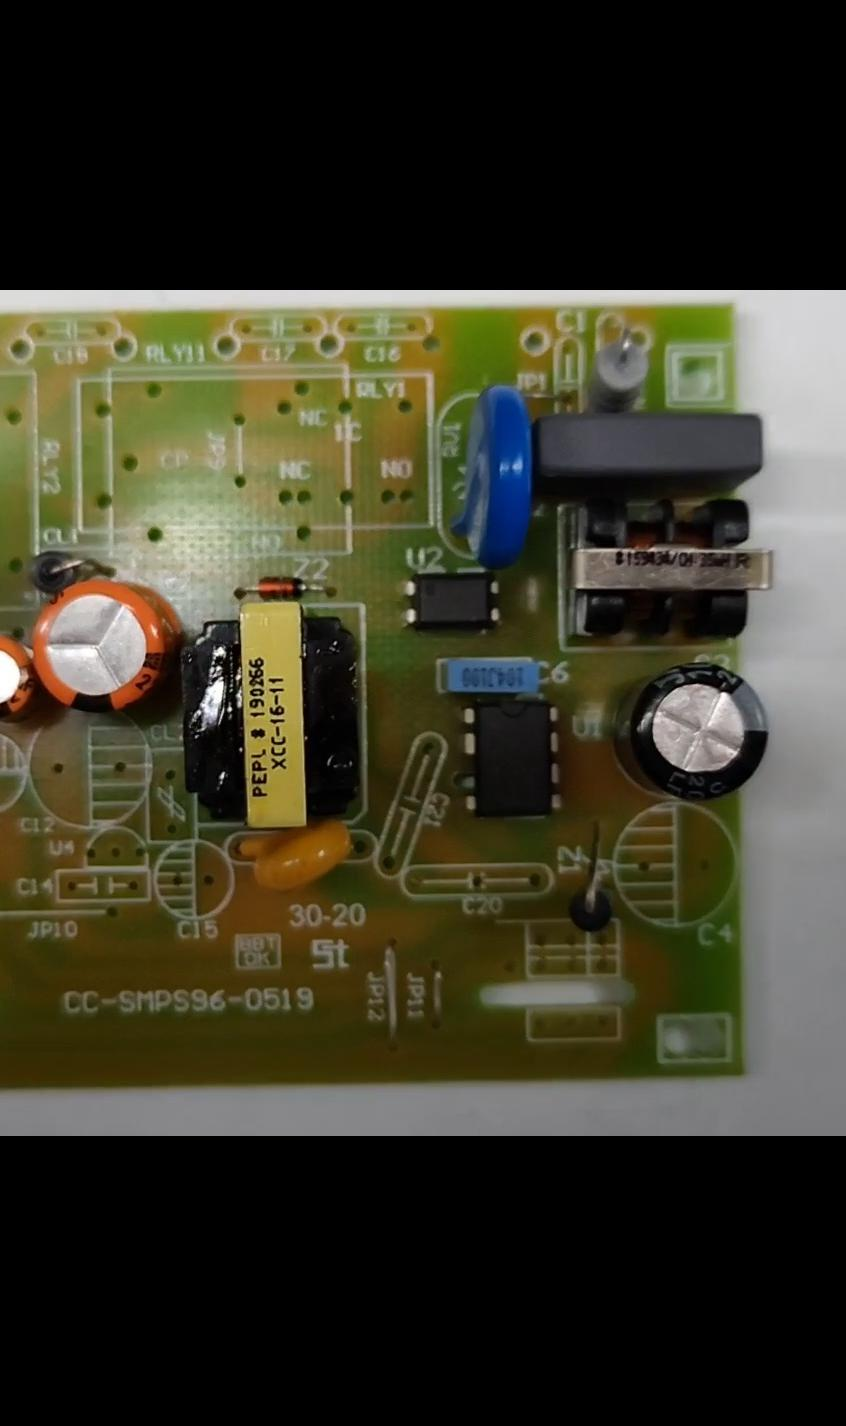Cap1: (31, 582, 173, 708)
Cap2: (0, 635, 33, 718)
Cap3: (613, 663, 770, 791)
MOSFET: (462, 696, 561, 816)
Mov: (453, 387, 535, 559)
Resistor: (585, 328, 654, 412)
Transformer: (183, 603, 360, 831), (563, 493, 775, 644)
